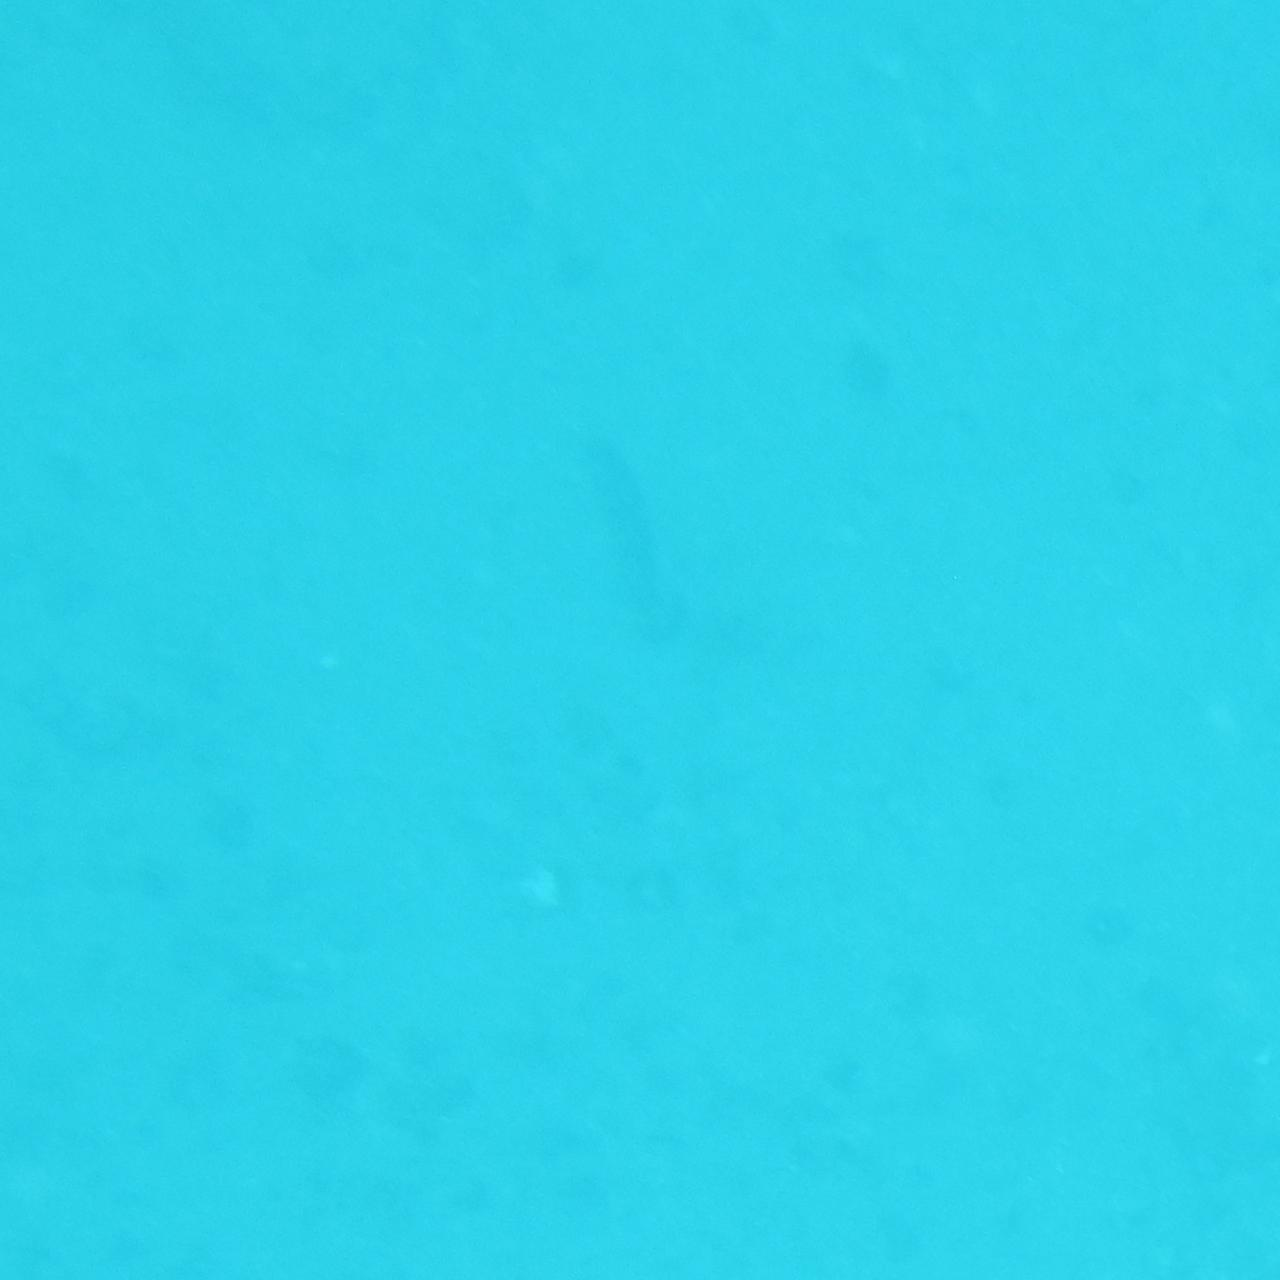Holothuria tubulosa: (574, 431, 706, 669)
